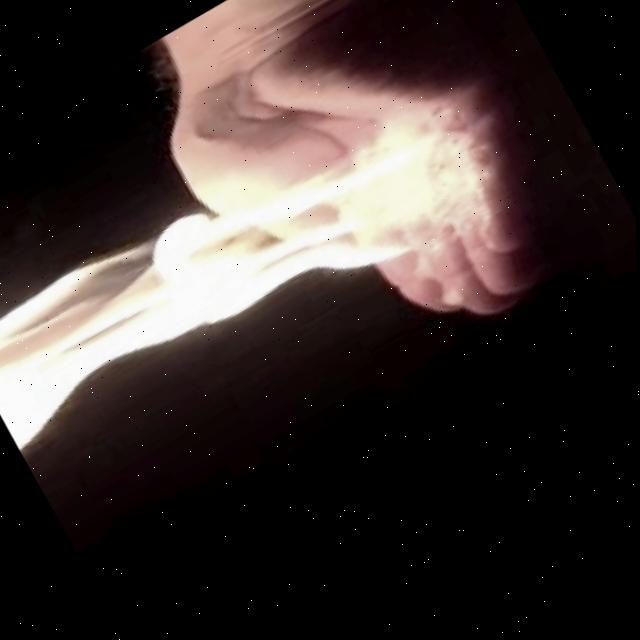Fire: (0, 66, 462, 478)
